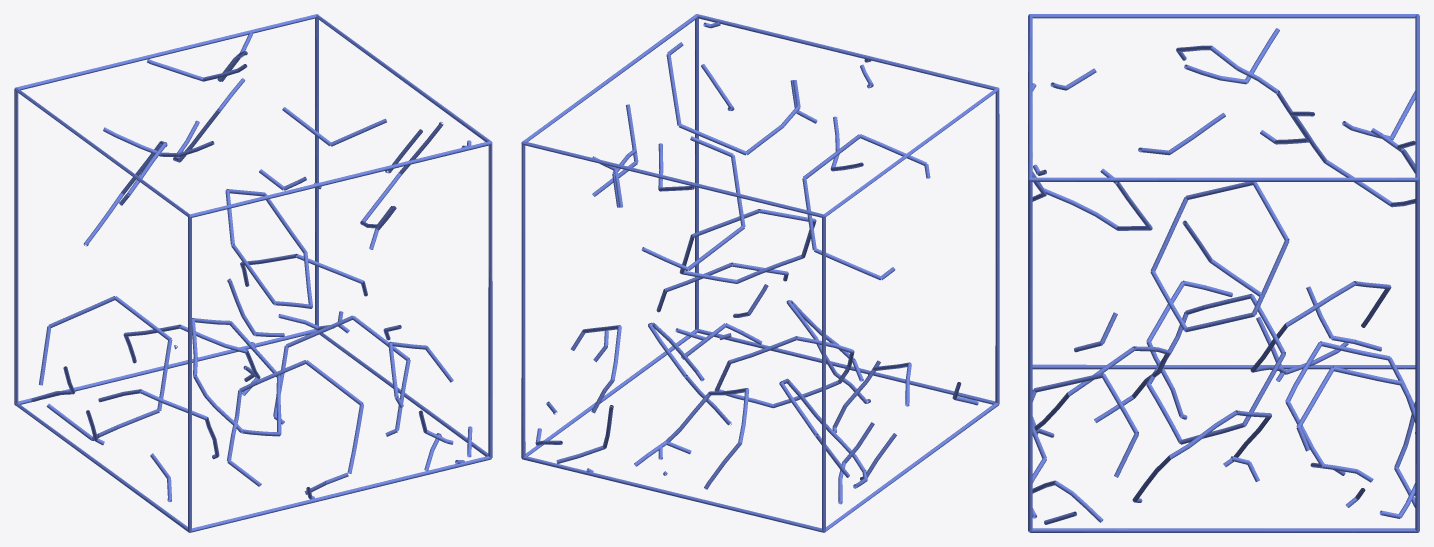
The model's file is dislocation100.glb.
The picture shows the model from 3 angles, left to right: view 1: azimuth 30°, elevation 25°; view 2: azimuth 150°, elevation 25°; view 3: azimuth 270°, elevation 25°; orthographic projection. The views are drawn at different scales.
Visible parts, largest first — view 1: Shape_IndexedLineSet.001, Shape_IndexedLineSet; view 2: Shape_IndexedLineSet.001, Shape_IndexedLineSet; view 3: Shape_IndexedLineSet.001, Shape_IndexedLineSet.
Part boxes in pixels (x1=…): Shape_IndexedLineSet.001: x1=31, y1=32, x2=472, y2=502; Shape_IndexedLineSet: x1=14, y1=14, x2=492, y2=532; Shape_IndexedLineSet.001: x1=535, y1=21, x2=978, y2=504; Shape_IndexedLineSet: x1=521, y1=14, x2=999, y2=532; Shape_IndexedLineSet.001: x1=1032, y1=28, x2=1415, y2=524; Shape_IndexedLineSet: x1=1028, y1=14, x2=1419, y2=532.
Size of the model in its own units: 1.01 by 1.01 by 1.01.
